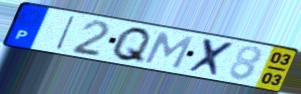2: (70, 18, 112, 58)
8: (227, 45, 265, 84)
I: (53, 14, 78, 52)
M: (141, 30, 196, 71)
Q: (109, 26, 154, 66)
X: (186, 36, 239, 79)
